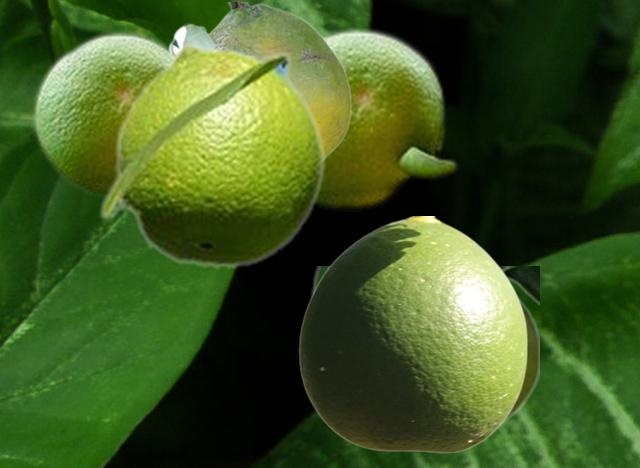dalandan: (298, 216, 527, 452), (97, 42, 326, 269), (311, 266, 538, 433), (169, 2, 351, 157), (315, 25, 459, 210), (31, 29, 174, 195)
